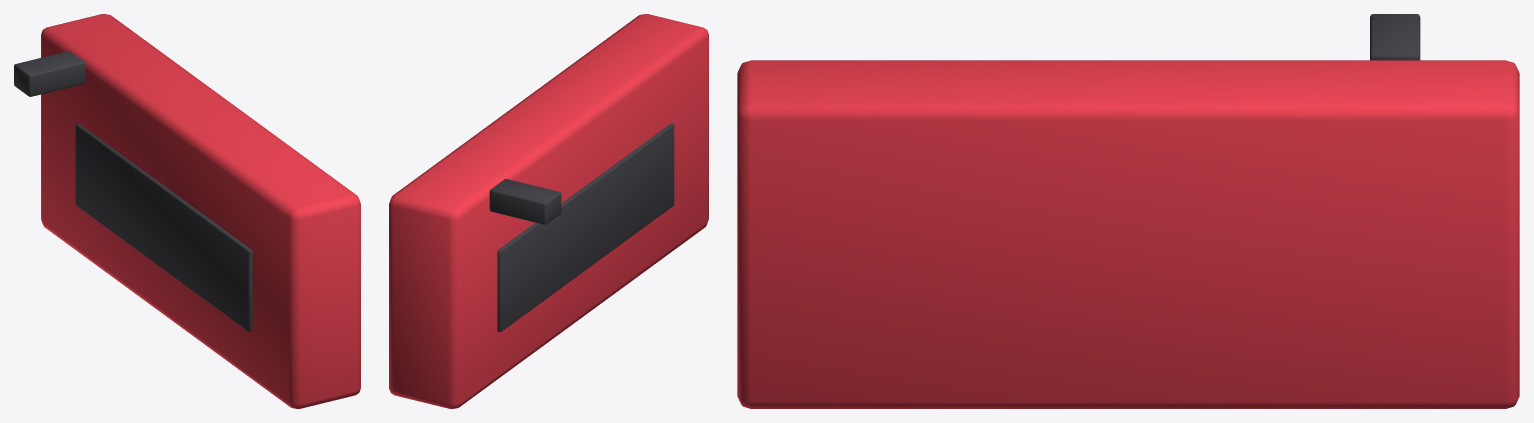
File: hypercar_door_butterfly_left.glb
3 renders of one model, left to right at view 1: azimuth 30°, elevation 25°; view 2: azimuth 150°, elevation 25°; view 3: azimuth 270°, elevation 25°, orthographic. The views are drawn at different scales.
Visible parts, largest first — view 1: Hypercar_Door_Butterfly_Left; view 2: Hypercar_Door_Butterfly_Left; view 3: Hypercar_Door_Butterfly_Left.
Part boxes in pixels (x1,y1,x2,y2): Hypercar_Door_Butterfly_Left: (14, 14, 360, 408); Hypercar_Door_Butterfly_Left: (389, 14, 708, 408); Hypercar_Door_Butterfly_Left: (737, 14, 1519, 408).
Bounding box in the file's own units: 0.36 × 0.54 × 1.25.
